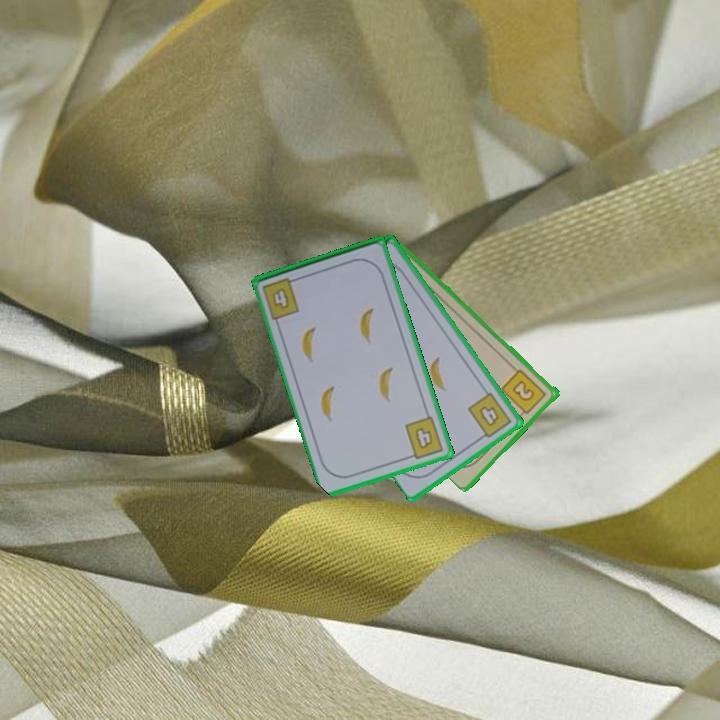2b: (498, 365, 549, 420)
4b: (464, 388, 515, 443), (401, 413, 447, 462), (259, 274, 303, 322)
